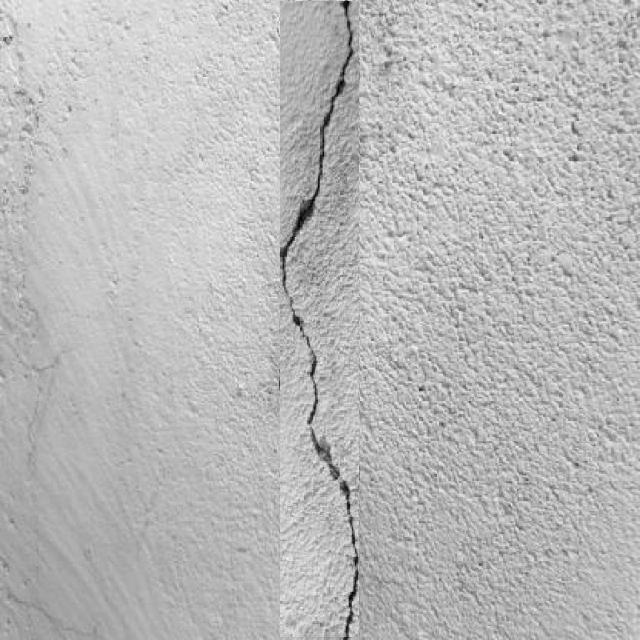vertical crack: (281, 2, 359, 635)
